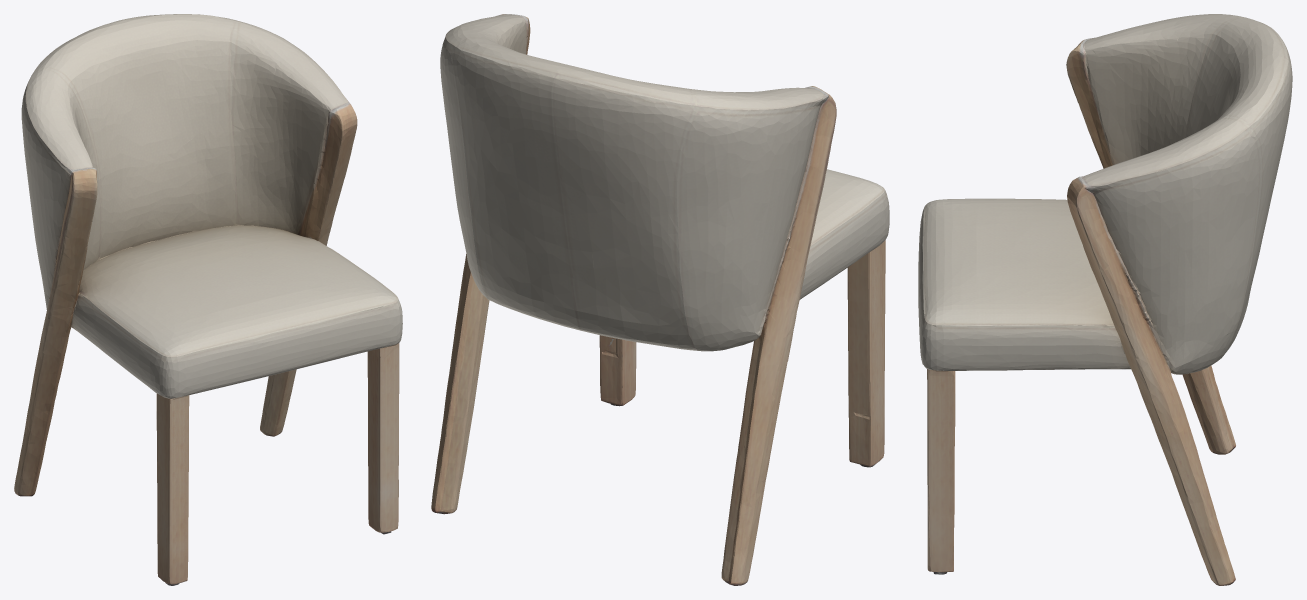
3 views of the same model, side by side, from view 1: azimuth 30°, elevation 25°; view 2: azimuth 150°, elevation 25°; view 3: azimuth 270°, elevation 25° (orthographic). The views are drawn at different scales.
Visible parts, largest first — view 1: world; view 2: world; view 3: world.
Boxes of the visible parts, x1,y1,x2,y2 form: world: [14, 14, 402, 585]; world: [431, 14, 889, 585]; world: [918, 14, 1292, 585].
Bounding box in the file's own units: 0.7045 × 0.9999 × 0.7364.
Materials: 1 (1 with a texture image).
